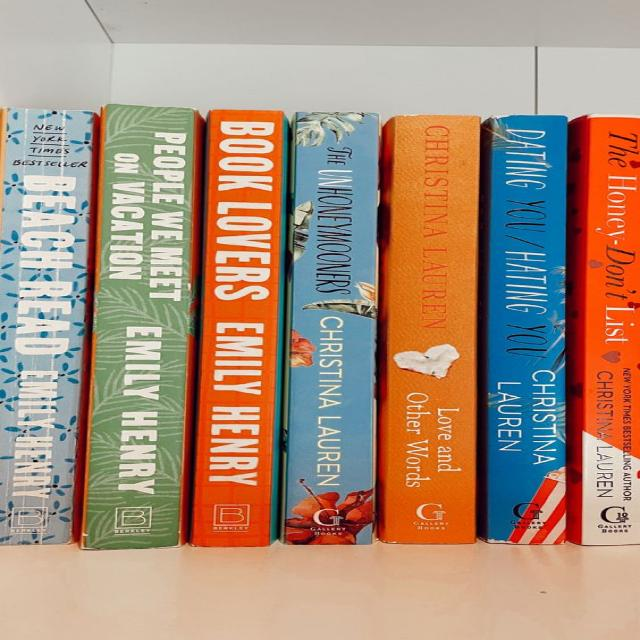book: (78, 104, 203, 549), (377, 116, 480, 544), (281, 111, 380, 544), (190, 110, 287, 546), (0, 110, 94, 544), (477, 116, 567, 545), (566, 116, 639, 545)
